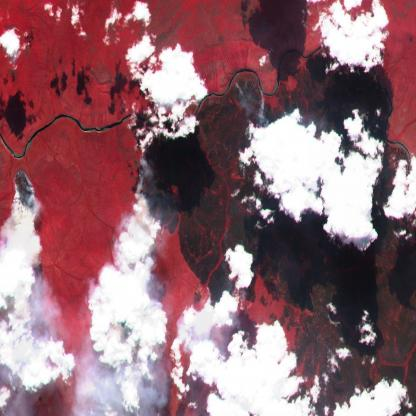fire: (127, 130, 173, 235), (8, 164, 43, 226), (205, 278, 256, 318), (220, 69, 264, 108)
